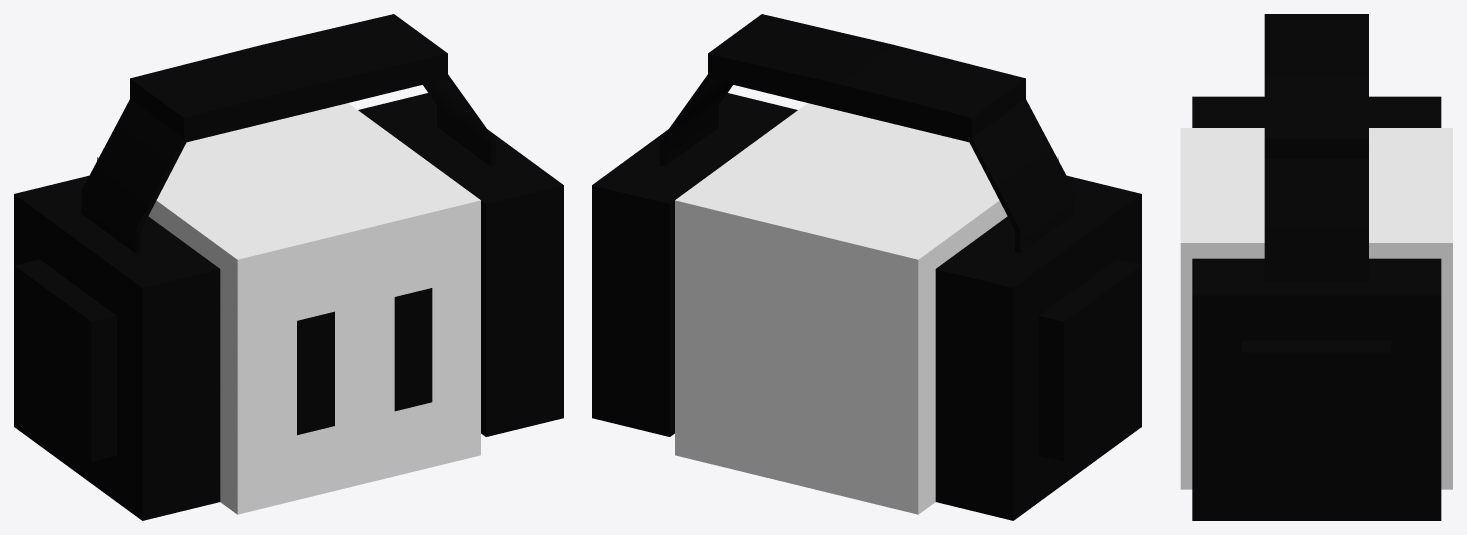
Rendered from ongaku.glb.
3 renders of one model, left to right at view 1: azimuth 30°, elevation 25°; view 2: azimuth 150°, elevation 25°; view 3: azimuth 270°, elevation 25°, orthographic. The views are drawn at different scales.
Visible parts, largest first — view 1: pPlane9; view 2: pPlane9; view 3: pPlane9.
Part boxes in pixels (x1,y1,x2,y2): pPlane9: [14, 14, 563, 520]; pPlane9: [592, 14, 1141, 520]; pPlane9: [1180, 14, 1452, 520].
Bounding box in the file's own units: 0.0968 × 0.0724 × 0.0519.
Materials: 1 (1 with a texture image).
